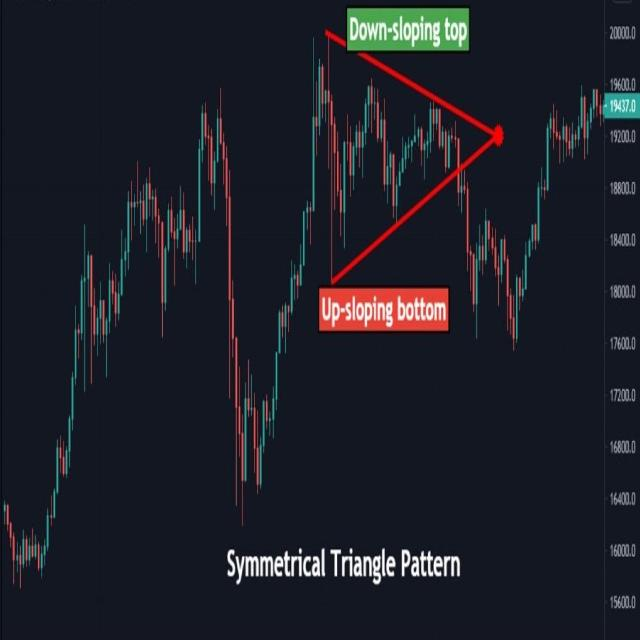Triangle: (299, 27, 490, 303)
